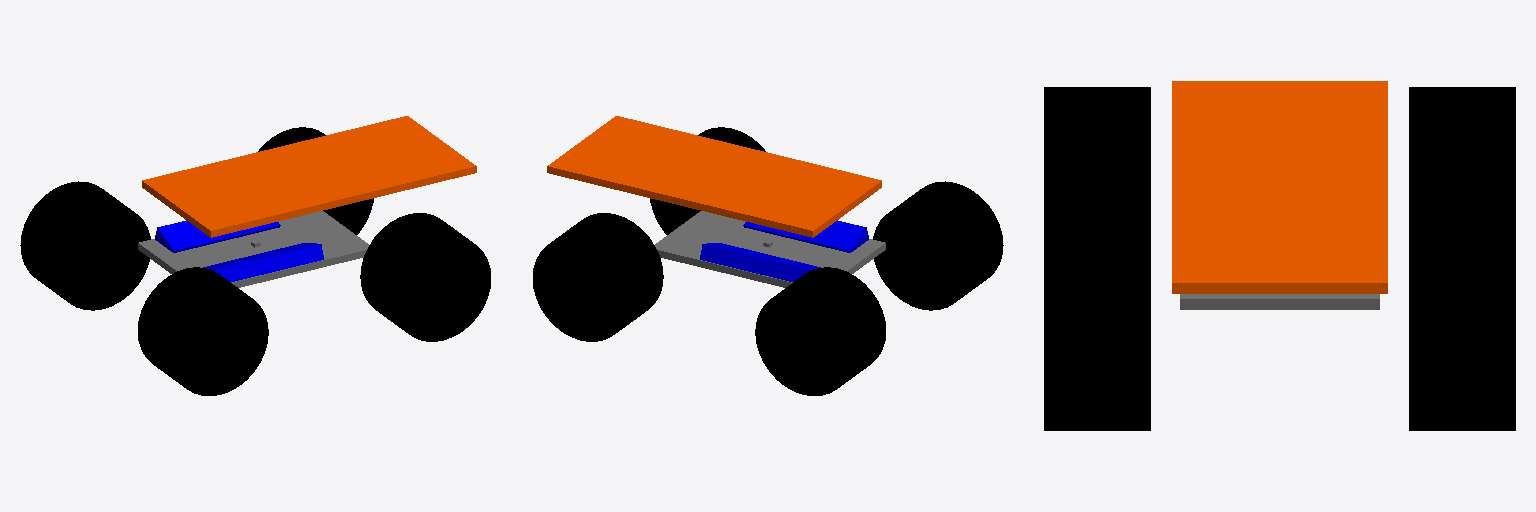
URDF robot description (racecar):
<?xml version="1.0" ?>
<!-- =================================================================================== -->
<!-- |    This document was autogenerated by xacro from racecar.urdf.xacro             | -->
<!-- |    EDITING THIS FILE BY HAND IS NOT RECOMMENDED                                 | -->
<!-- =================================================================================== -->
<!-- racecar.urdf.xacro

This file defines a model of a Traxxas(R) E-Maxx(R) #3905 RC (Radio Controlled)
truck.

Lengths are measured in meters, angles are measured in radians, and masses are
measured in kilograms. All of these values are approximations.

To work with Gazebo, each link must have an inertial element, even if
the link only serves to connect two joints. To be visible in Gazebo, a link
must have a collision element. Furthermore, the link must have a Gazebo
material.

Traxxas(R), E-Maxx(R), and Titan(R) are registered trademarks of Traxxas
Management, LLC. em_3905.urdf.xacro was independently created by Wunderkammer
Laboratory, and neither em_3905.urdf.xacro nor Wunderkammer Laboratory is
affiliated with, sponsored by, approved by, or endorsed by Traxxas Management,
LLC. Mabuchi Motor(R) is a registered trademark of Mabuchi Motor Co., Ltd.
Corporation Japan. All other trademarks and service marks are the property of
their respective owners.

Copyright (c) 2011-2014 Wunderkammer Laboratory

Licensed under the Apache License, Version 2.0 (the "License");
you may not use this file except in compliance with the License.
You may obtain a copy of the License at

  http://www.apache.org/licenses/LICENSE-2.0

Unless required by applicable law or agreed to in writing, software
distributed under the License is distributed on an "AS IS" BASIS,
WITHOUT WARRANTIES OR CONDITIONS OF ANY KIND, either express or implied.
See the License for the specific language governing permissions and
limitations under the License.
-->
<robot name="racecar">
  <!-- include sensors -->
  <!-- <xacro:include filename="$(find racecar_description)/urdf/sensors/lidar.xacro" />
  <xacro:include filename="$(find racecar_description)/urdf/sensors/imu.xacro" />
  <xacro:include filename="$(find racecar_description)/urdf/sensors/camera.xacro" /> -->
  <material name="battery_mat">
    <color rgba="0 0 1 1"/>
  </material>
  <material name="chassis_mat">
    <color rgba="0.5 0.5 0.5 1"/>
  </material>
  <material name="tire_mat">
    <color rgba="0 0 0 1"/>
  </material>
  <material name="yellow">
    <color rgba="1 0.4 0 1"/>
  </material>
  <link name="base_footprint"/>
  <!-- base_link must have geometry so that its axes can be displayed in
       rviz. -->
  <link name="base_link">
    <visual>
      <geometry>
        <box size="0.01 0.01 0.01"/>
      </geometry>
      <material name="chassis_mat"/>
    </visual>
  </link>
  <gazebo reference="base_link">
    <material>Gazebo/Grey</material>
  </gazebo>
  <joint name="base_footprint_to_base_link" type="fixed">
    <parent link="base_footprint"/>
    <child link="base_link"/>
    <origin xyz="0 0 0.10750000000000001"/>
  </joint>
  <!-- Chassis -->
  <link name="chassis">
    <visual>
      <origin xyz="0 0 -0.005"/>
      <geometry>
        <box size="0.258 0.168 0.01"/>
      </geometry>
      <material name="chassis_mat"/>
    </visual>
    <collision>
      <origin xyz="0 0 -0.005"/>
      <geometry>
        <box size="0.258 0.168 0.01"/>
      </geometry>
    </collision>
    <inertial>
      <origin xyz="0 0 -0.005"/>
      <mass value="2.788"/>
      <inertia ixx="0.0065806093333333334" ixy="0" ixz="0" iyy="0.015488269333333332" iyz="0" izz="0.022022411999999995"/>
    </inertial>
  </link>
  <gazebo reference="chassis">
    <material>Gazebo/Grey</material>
  </gazebo>
  <joint name="base_link_to_chassis" type="fixed">
    <parent link="base_link"/>
    <child link="chassis"/>
  </joint>
  <joint name="chassis_to_left_battery" type="fixed">
    <parent link="chassis"/>
    <child link="left_battery_offset"/>
    <origin rpy="0.34906585 0 0" xyz="-0.025                    0.0325                    0"/>
  </joint>
  <link name="left_battery_offset">
    <inertial>
      <mass value="0.001"/>
      <inertia ixx="0.001" ixy="0" ixz="0" iyy="0.001" iyz="0" izz="0.001"/>
    </inertial>
  </link>
  <joint name="offset_to_left_battery" type="fixed">
    <parent link="left_battery_offset"/>
    <child link="left_battery"/>
    <origin xyz="0                    0.0235                    -0.008"/>
  </joint>
  <link name="left_battery">
    <visual>
      <geometry>
        <box size="0.16 0.047 0.024"/>
      </geometry>
      <material name="battery_mat"/>
    </visual>
    <collision>
      <geometry>
        <box size="0.16 0.047 0.024"/>
      </geometry>
    </collision>
    <inertial>
      <origin/>
      <mass value="0.5025"/>
      <inertia ixx="0.000116621875" ixy="0" ixz="0" iyy="0.00109612" iyz="0" izz="0.0011645018749999998"/>
    </inertial>
  </link>
  <gazebo reference="left_battery">
    <material>Gazebo/Blue</material>
  </gazebo>
  <joint name="chassis_to_right_battery" type="fixed">
    <parent link="chassis"/>
    <child link="right_battery_offset"/>
    <origin rpy="-0.34906585 0 0" xyz="-0.025                    -0.0325                    0"/>
  </joint>
  <link name="right_battery_offset">
    <inertial>
      <mass value="0.001"/>
      <inertia ixx="0.001" ixy="0" ixz="0" iyy="0.001" iyz="0" izz="0.001"/>
    </inertial>
  </link>
  <joint name="offset_to_right_battery" type="fixed">
    <parent link="right_battery_offset"/>
    <child link="right_battery"/>
    <origin xyz="0                    -0.0235                    -0.008"/>
  </joint>
  <link name="right_battery">
    <visual>
      <geometry>
        <box size="0.16 0.047 0.024"/>
      </geometry>
      <material name="battery_mat"/>
    </visual>
    <collision>
      <geometry>
        <box size="0.16 0.047 0.024"/>
      </geometry>
    </collision>
    <inertial>
      <origin/>
      <mass value="0.5025"/>
      <inertia ixx="0.000116621875" ixy="0" ixz="0" iyy="0.00109612" iyz="0" izz="0.0011645018749999998"/>
    </inertial>
  </link>
  <gazebo reference="right_battery">
    <material>Gazebo/Blue</material>
  </gazebo>
  <joint name="left_front_shock" type="prismatic">
    <parent link="chassis"/>
    <child link="left_steering_link"/>
    <origin xyz="0.1675                    0.1525                    -0.0235"/>
    <axis xyz="0 0 -1"/>
    <limit effort="12.5106" lower="-0.042" upper="0.042" velocity="1000"/>
  </joint>
  <transmission name="left_front_shock_trans">
    <type>transmission_interface/SimpleTransmission</type>
    <joint name="left_front_shock">
      <hardwareInterface>hardware_interface/EffortJointInterface</hardwareInterface>
    </joint>
    <actuator name="left_front_shock_act">
      <!-- This hardwareInterface element exists for compatibility
             with ROS Hydro. -->
      <hardwareInterface>hardware_interface/EffortJointInterface</hardwareInterface>
      <mechanicalReduction>1</mechanicalReduction>
    </actuator>
  </transmission>
  <link name="left_steering_link">
    <inertial>
      <mass value="0.001"/>
      <inertia ixx="0.001" ixy="0" ixz="0" iyy="0.001" iyz="0" izz="0.001"/>
    </inertial>
  </link>
  <joint name="left_steering_joint" type="revolute">
    <parent link="left_steering_link"/>
    <child link="left_front_axle_carrier"/>
    <axis xyz="0 0 1"/>
    <limit effort="0.5649" lower="-0.785398163" upper="0.785398163" velocity="4.553"/>
  </joint>
  <transmission name="left_steering_trans">
    <type>transmission_interface/SimpleTransmission</type>
    <joint name="left_steering_joint">
      <hardwareInterface>hardware_interface/EffortJointInterface</hardwareInterface>
    </joint>
    <actuator name="left_steering_act">
      <!-- This hardwareInterface element exists for compatibility
             with ROS Hydro. -->
      <hardwareInterface>hardware_interface/EffortJointInterface</hardwareInterface>
      <mechanicalReduction>1</mechanicalReduction>
    </actuator>
  </transmission>
  <link name="left_front_axle_carrier">
    <inertial>
      <mass value="0.001"/>
      <inertia ixx="0.001" ixy="0" ixz="0" iyy="0.001" iyz="0" izz="0.001"/>
    </inertial>
  </link>
  <!-- The left and right axles have the same axis so that identical
         rotation values cause the wheels to rotate in the same direction. -->
  <joint name="left_front_axle" type="continuous">
    <parent link="left_front_axle_carrier"/>
    <child link="left_front_wheel"/>
    <origin rpy="1.57079633 0 0"/>
    <axis xyz="0 0 -1"/>
    <limit effort="5.12766" velocity="244.8696"/>
  </joint>
  <transmission name="left_front_axle_trans">
    <type>transmission_interface/SimpleTransmission</type>
    <joint name="left_front_axle">
      <hardwareInterface>hardware_interface/EffortJointInterface</hardwareInterface>
    </joint>
    <actuator name="left_front_axle_act">
      <!-- This hardwareInterface element exists for compatibility
             with ROS Hydro. -->
      <hardwareInterface>hardware_interface/EffortJointInterface</hardwareInterface>
      <mechanicalReduction>1</mechanicalReduction>
    </actuator>
  </transmission>
  <link name="left_front_wheel">
    <visual>
      <origin xyz="0                      -6.938893903907228e-18                      0"/>
      <geometry>
        <cylinder length="0.0889" radius="0.073025"/>
      </geometry>
      <material name="tire_mat"/>
    </visual>
    <collision>
      <origin xyz="0                      -6.938893903907228e-18                      0"/>
      <geometry>
        <cylinder length="0.0889" radius="0.073025"/>
      </geometry>
    </collision>
    <inertial>
      <mass value="0.29"/>
      <inertia ixx="0.0007464659129791666" ixy="0" ixz="0" iyy="0.0007464659129791666" iyz="0" izz="0.001110943342625"/>
    </inertial>
  </link>
  <gazebo reference="left_front_wheel">
    <material>Gazebo/Black</material>
  </gazebo>
  <joint name="right_front_shock" type="prismatic">
    <parent link="chassis"/>
    <child link="right_steering_link"/>
    <origin xyz="0.1675                    -0.1525                    -0.0235"/>
    <axis xyz="0 0 -1"/>
    <limit effort="12.5106" lower="-0.042" upper="0.042" velocity="1000"/>
  </joint>
  <transmission name="right_front_shock_trans">
    <type>transmission_interface/SimpleTransmission</type>
    <joint name="right_front_shock">
      <hardwareInterface>hardware_interface/EffortJointInterface</hardwareInterface>
    </joint>
    <actuator name="right_front_shock_act">
      <!-- This hardwareInterface element exists for compatibility
             with ROS Hydro. -->
      <hardwareInterface>hardware_interface/EffortJointInterface</hardwareInterface>
      <mechanicalReduction>1</mechanicalReduction>
    </actuator>
  </transmission>
  <link name="right_steering_link">
    <inertial>
      <mass value="0.001"/>
      <inertia ixx="0.001" ixy="0" ixz="0" iyy="0.001" iyz="0" izz="0.001"/>
    </inertial>
  </link>
  <joint name="right_steering_joint" type="revolute">
    <parent link="right_steering_link"/>
    <child link="right_front_axle_carrier"/>
    <axis xyz="0 0 1"/>
    <limit effort="0.5649" lower="-0.785398163" upper="0.785398163" velocity="4.553"/>
  </joint>
  <transmission name="right_steering_trans">
    <type>transmission_interface/SimpleTransmission</type>
    <joint name="right_steering_joint">
      <hardwareInterface>hardware_interface/EffortJointInterface</hardwareInterface>
    </joint>
    <actuator name="right_steering_act">
      <!-- This hardwareInterface element exists for compatibility
             with ROS Hydro. -->
      <hardwareInterface>hardware_interface/EffortJointInterface</hardwareInterface>
      <mechanicalReduction>1</mechanicalReduction>
    </actuator>
  </transmission>
  <link name="right_front_axle_carrier">
    <inertial>
      <mass value="0.001"/>
      <inertia ixx="0.001" ixy="0" ixz="0" iyy="0.001" iyz="0" izz="0.001"/>
    </inertial>
  </link>
  <!-- The left and right axles have the same axis so that identical
         rotation values cause the wheels to rotate in the same direction. -->
  <joint name="right_front_axle" type="continuous">
    <parent link="right_front_axle_carrier"/>
    <child link="right_front_wheel"/>
    <origin rpy="1.57079633 0 0"/>
    <axis xyz="0 0 -1"/>
    <limit effort="5.12766" velocity="244.8696"/>
  </joint>
  <transmission name="right_front_axle_trans">
    <type>transmission_interface/SimpleTransmission</type>
    <joint name="right_front_axle">
      <hardwareInterface>hardware_interface/EffortJointInterface</hardwareInterface>
    </joint>
    <actuator name="right_front_axle_act">
      <!-- This hardwareInterface element exists for compatibility
             with ROS Hydro. -->
      <hardwareInterface>hardware_interface/EffortJointInterface</hardwareInterface>
      <mechanicalReduction>1</mechanicalReduction>
    </actuator>
  </transmission>
  <link name="right_front_wheel">
    <visual>
      <origin xyz="0                      6.938893903907228e-18                      0"/>
      <geometry>
        <cylinder length="0.0889" radius="0.073025"/>
      </geometry>
      <material name="tire_mat"/>
    </visual>
    <collision>
      <origin xyz="0                      6.938893903907228e-18                      0"/>
      <geometry>
        <cylinder length="0.0889" radius="0.073025"/>
      </geometry>
    </collision>
    <inertial>
      <mass value="0.29"/>
      <inertia ixx="0.0007464659129791666" ixy="0" ixz="0" iyy="0.0007464659129791666" iyz="0" izz="0.001110943342625"/>
    </inertial>
  </link>
  <gazebo reference="right_front_wheel">
    <material>Gazebo/Black</material>
  </gazebo>
  <joint name="left_rear_shock" type="prismatic">
    <parent link="chassis"/>
    <child link="left_rear_axle_carrier"/>
    <origin xyz="-0.1675                    0.1525                    -0.0235"/>
    <axis xyz="0 0 -1"/>
    <limit effort="12.5106" lower="-0.042" upper="0.042" velocity="1000"/>
  </joint>
  <transmission name="left_rear_shock_trans">
    <type>transmission_interface/SimpleTransmission</type>
    <joint name="left_rear_shock">
      <hardwareInterface>hardware_interface/EffortJointInterface</hardwareInterface>
    </joint>
    <actuator name="left_rear_shock_act">
      <!-- This hardwareInterface element exists for compatibility
             with ROS Hydro. -->
      <hardwareInterface>hardware_interface/EffortJointInterface</hardwareInterface>
      <mechanicalReduction>1</mechanicalReduction>
    </actuator>
  </transmission>
  <link name="left_rear_axle_carrier">
    <inertial>
      <mass value="0.001"/>
      <inertia ixx="0.001" ixy="0" ixz="0" iyy="0.001" iyz="0" izz="0.001"/>
    </inertial>
  </link>
  <!-- The left and right axles have the same axis so that identical
         rotation values cause the wheels to rotate in the same direction. -->
  <joint name="left_rear_axle" type="continuous">
    <parent link="left_rear_axle_carrier"/>
    <child link="left_rear_wheel"/>
    <origin rpy="1.57079633 0 0"/>
    <axis xyz="0 0 -1"/>
    <limit effort="5.12766" velocity="244.8696"/>
  </joint>
  <transmission name="left_rear_axle_trans">
    <type>transmission_interface/SimpleTransmission</type>
    <joint name="left_rear_axle">
      <hardwareInterface>hardware_interface/EffortJointInterface</hardwareInterface>
    </joint>
    <actuator name="left_rear_axle_act">
      <!-- This hardwareInterface element exists for compatibility
             with ROS Hydro. -->
      <hardwareInterface>hardware_interface/EffortJointInterface</hardwareInterface>
      <mechanicalReduction>1</mechanicalReduction>
    </actuator>
  </transmission>
  <link name="left_rear_wheel">
    <visual>
      <origin xyz="0                      -6.938893903907228e-18                      0"/>
      <geometry>
        <cylinder length="0.0889" radius="0.073025"/>
      </geometry>
      <material name="tire_mat"/>
    </visual>
    <collision>
      <origin xyz="0                      -6.938893903907228e-18                      0"/>
      <geometry>
        <cylinder length="0.0889" radius="0.073025"/>
      </geometry>
    </collision>
    <inertial>
      <mass value="0.29"/>
      <inertia ixx="0.0007464659129791666" ixy="0" ixz="0" iyy="0.0007464659129791666" iyz="0" izz="0.001110943342625"/>
    </inertial>
  </link>
  <gazebo reference="left_rear_wheel">
    <material>Gazebo/Black</material>
  </gazebo>
  <joint name="right_rear_shock" type="prismatic">
    <parent link="chassis"/>
    <child link="right_rear_axle_carrier"/>
    <origin xyz="-0.1675                    -0.1525                    -0.0235"/>
    <axis xyz="0 0 -1"/>
    <limit effort="12.5106" lower="-0.042" upper="0.042" velocity="1000"/>
  </joint>
  <transmission name="right_rear_shock_trans">
    <type>transmission_interface/SimpleTransmission</type>
    <joint name="right_rear_shock">
      <hardwareInterface>hardware_interface/EffortJointInterface</hardwareInterface>
    </joint>
    <actuator name="right_rear_shock_act">
      <!-- This hardwareInterface element exists for compatibility
             with ROS Hydro. -->
      <hardwareInterface>hardware_interface/EffortJointInterface</hardwareInterface>
      <mechanicalReduction>1</mechanicalReduction>
    </actuator>
  </transmission>
  <link name="right_rear_axle_carrier">
    <inertial>
      <mass value="0.001"/>
      <inertia ixx="0.001" ixy="0" ixz="0" iyy="0.001" iyz="0" izz="0.001"/>
    </inertial>
  </link>
  <!-- The left and right axles have the same axis so that identical
         rotation values cause the wheels to rotate in the same direction. -->
  <joint name="right_rear_axle" type="continuous">
    <parent link="right_rear_axle_carrier"/>
    <child link="right_rear_wheel"/>
    <origin rpy="1.57079633 0 0"/>
    <axis xyz="0 0 -1"/>
    <limit effort="5.12766" velocity="244.8696"/>
  </joint>
  <transmission name="right_rear_axle_trans">
    <type>transmission_interface/SimpleTransmission</type>
    <joint name="right_rear_axle">
      <hardwareInterface>hardware_interface/EffortJointInterface</hardwareInterface>
    </joint>
    <actuator name="right_rear_axle_act">
      <!-- This hardwareInterface element exists for compatibility
             with ROS Hydro. -->
      <hardwareInterface>hardware_interface/EffortJointInterface</hardwareInterface>
      <mechanicalReduction>1</mechanicalReduction>
    </actuator>
  </transmission>
  <link name="right_rear_wheel">
    <visual>
      <origin xyz="0                      6.938893903907228e-18                      0"/>
      <geometry>
        <cylinder length="0.0889" radius="0.073025"/>
      </geometry>
      <material name="tire_mat"/>
    </visual>
    <collision>
      <origin xyz="0                      6.938893903907228e-18                      0"/>
      <geometry>
        <cylinder length="0.0889" radius="0.073025"/>
      </geometry>
    </collision>
    <inertial>
      <mass value="0.29"/>
      <inertia ixx="0.0007464659129791666" ixy="0" ixz="0" iyy="0.0007464659129791666" iyz="0" izz="0.001110943342625"/>
    </inertial>
  </link>
  <gazebo reference="right_rear_wheel">
    <material>Gazebo/Black</material>
  </gazebo>
  <gazebo>
    <plugin filename="libgazebo_ros_control.so" name="gazebo_ros_control">
      <legacyModeNS>true</legacyModeNS>
      <robotSimType>gazebo_ros_control/DefaultRobotHWSim</robotSimType>
      <robotNamespace>/racecar</robotNamespace>
    </plugin>
  </gazebo>
  <!-- layers -->
  <!-- <layers layer="platform" parent="chassis" m="${layer_mass}" x="${layer_x}" y="${layer_y}" z="${layer_z}">
    <origin xyz="0 0 ${layer_height}" rpy="0 0 0" />
  </layers> -->
  <!-- <layers layer="lidar_platform" parent="platform_link" m="${layer_mass}" x="0.12" y="0.10" z="0.01">
    <origin xyz="0.08 0 ${layer_height}" rpy="0 0 0" />
  </layers> -->
  <link name="platform_link">
    <visual>
      <origin rpy="0 0 0" xyz="0 0 0"/>
      <geometry>
        <box size="0.4 0.18 0.01"/>
      </geometry>
      <material name="yellow"/>
    </visual>
    <collision>
      <origin rpy="0 0 0" xyz="0 0 0"/>
      <geometry>
        <box size="0.4 0.18 0.01"/>
      </geometry>
    </collision>
    <inertial>
      <origin xyz="0 0 -0.005"/>
      <mass value="0.0"/>
      <inertia ixx="0.0" ixy="0" ixz="0" iyy="0.0" iyz="0" izz="0.0"/>
    </inertial>
  </link>
  <gazebo reference="platform_link">
    <material>Gazebo/Orange</material>
  </gazebo>
  <joint name="platform_joint" type="fixed">
    <parent link="chassis"/>
    <child link="platform_link"/>
    <origin rpy="0 0 0" xyz="0.08 0 0.08"/>
  </joint>
  <!-- <lidar prefix="laser"/> -->
  <!-- <joint name="lidar_joint" type="fixed">
    <origin xyz="0 0 0.03" rpy="0 0 0" />
    <parent link="lidar_platform_link"/>
    <child link="laser_link"/>
  </joint> -->
  <!-- <imu prefix="imu"/> -->
  <!-- <joint name="imu_joint" type="fixed">
    <origin xyz="0.16 0 0.015" rpy="0 0 0" />
    <parent link="platform_link"/>
    <child link="imu_link"/>
  </joint> -->
  <!-- <camera prefix="camera"/> -->
  <!-- <joint name="camera_joint" type="fixed">
    <origin xyz="0.16 0 0.05" rpy="0 0 0" />
    <parent link="platform_link"/>
    <child link="camera_link"/>
  </joint> -->
</robot>

--- Render facts (derived) ---
3 views of the same robot in one strip: view 1: azimuth 30°, elevation 25°; view 2: azimuth 150°, elevation 25°; view 3: azimuth 270°, elevation 25° (orthographic).
Robot: racecar — 18 links, 17 joints (2 revolute, 4 continuous, 4 prismatic, 7 fixed); root link base_footprint; default pose: every joint at zero.
Links seen in each view (by area): view 1: platform_link, right_front_wheel, right_rear_wheel, left_rear_wheel, chassis, right_battery, left_front_wheel, left_battery; view 2: platform_link, left_front_wheel, left_rear_wheel, right_rear_wheel, chassis, left_battery, right_front_wheel, right_battery; view 3: platform_link, left_front_wheel, right_front_wheel, left_rear_wheel, right_rear_wheel, chassis.
Link boxes in pixels (x1,y1,x2,y2): platform_link: [142, 116, 476, 237]; right_front_wheel: [360, 213, 490, 341]; right_rear_wheel: [138, 267, 268, 395]; left_rear_wheel: [20, 181, 150, 310]; chassis: [138, 211, 368, 287]; right_battery: [203, 243, 323, 281]; left_front_wheel: [258, 127, 373, 234]; left_battery: [155, 220, 280, 252]; platform_link: [547, 116, 881, 237]; left_front_wheel: [533, 213, 663, 341]; left_rear_wheel: [755, 267, 885, 395]; right_rear_wheel: [873, 181, 1003, 310]; chassis: [655, 211, 885, 287]; left_battery: [700, 243, 820, 281]; right_front_wheel: [650, 127, 765, 234]; right_battery: [743, 220, 868, 252]; platform_link: [1172, 81, 1387, 293]; left_front_wheel: [1409, 257, 1515, 430]; right_front_wheel: [1044, 257, 1150, 430]; left_rear_wheel: [1409, 87, 1515, 256]; right_rear_wheel: [1044, 87, 1150, 256]; chassis: [1180, 294, 1379, 309].
Size in the robot's own frame: 0.5205 by 0.3939 by 0.1815 metres.
Geometry: primitives only (box / cylinder / sphere), no mesh files.
